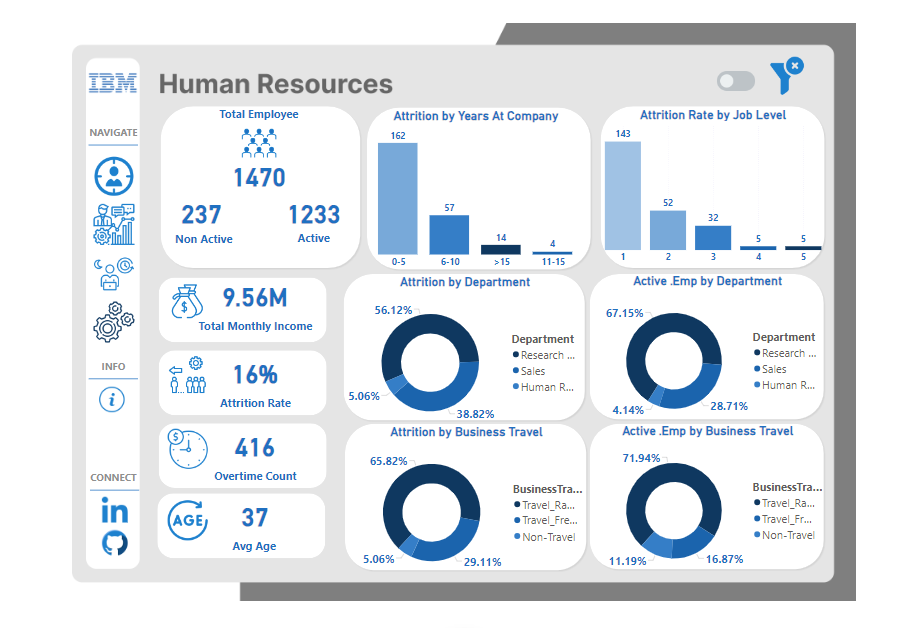

What the dashboard file says about the page in this screenshot:
{"tool":"powerbi","page":{"name":"Work Related Factors","canvas":[1900,1400],"ordinal":3},"visuals":[{"type":"shape","box":[1275,197.5,552.5,402.5],"z":0,"group":"g8"},{"type":"group","id":"g1","title":"Group 1","box":[210,198,494,404],"z":0},{"type":"shape","box":[210,198.5,493.6,402.5],"z":0,"group":"g1"},{"type":"shape","box":[712.5,200,552.5,402.5],"z":0,"group":"g9"},{"type":"shape","box":[653.8,602.5,595,365],"z":0,"group":"g6"},{"type":"shape","box":[1250,602.5,577.5,362.7],"z":0,"group":"g10"},{"type":"shape","box":[210,615.6,407.5,157.5],"z":0,"group":"g2"},{"type":"shape","box":[210,792.5,407.5,157.5],"z":0,"group":"g3"},{"type":"shape","box":[655,967.5,595,365],"z":0,"group":"g11"},{"type":"shape","box":[1250,967.5,577.5,362.7],"z":0,"group":"g12"},{"type":"shape","box":[210,968.4,407.5,157.5],"z":0,"group":"g4"},{"type":"shape","box":[40,1121,120,25],"z":0,"group":"g7"},{"type":"shape","box":[208,1140.5,407.5,157.5],"z":0,"group":"g5"},{"type":"columnChart","title":"Attrition by Years At Company","fields":{"Category":["Employee (Fact).YearsAtCompanyGroup"],"Y":["Dax_Measure.# Attrition employees"]},"box":[688.1,205,585,397.5],"z":1000,"group":"g9"},{"type":"columnChart","title":"Attrition Rate by Job Level","fields":{"Category":["Employee (Fact).JobLevel"],"Y":["Dax_Measure.# Attrition employees"]},"box":[1285,205,535,390],"z":1000,"group":"g8"},{"type":"card","title":"Employee","fields":{"Values":["Dax_Measure.Total Employees"]},"box":[367.9,318,171.7,98],"z":1000,"group":"g1"},{"type":"donutChart","title":"Active .Emp by Department","fields":{"Y":["Dax_Measure.# Current employees"],"Category":["Department (Dim).Department"]},"box":[1262.1,607.5,555.7,390],"z":1000,"group":"g10"},{"type":"donutChart","title":"Attrition by Department","fields":{"Y":["Dax_Measure.# Attrition employees"],"Category":["Department (Dim).Department"]},"box":[666.3,610,572.5,392.5],"z":1000,"group":"g6"},{"type":"group","id":"g2","title":"Group 2","box":[210,612.5,407.5,160.6],"z":1000},{"type":"card","fields":{"Values":["Dax_Measure.Total Monthly Income"]},"box":[316.8,612.5,252.5,87.5],"z":1000,"group":"g2"},{"type":"card","fields":{"Values":["Dax_Measure.Attrition Rate"]},"box":[316.8,799.7,252.5,87.5],"z":1000,"group":"g3"},{"type":"donutChart","title":"Active .Emp by Business Travel","fields":{"Y":["Dax_Measure.# Current employees"],"Category":["BusinessTravel (Dim).BusinessTravel"]},"box":[1262.1,972.5,555.7,390],"z":1000,"group":"g12"},{"type":"donutChart","title":"Attrition by Business Travel","fields":{"Y":["Dax_Measure.# Attrition employees"],"Category":["BusinessTravel (Dim).BusinessTravel"]},"box":[667.5,975,572.5,392.5],"z":1000,"group":"g11"},{"type":"card","fields":{"Values":["Dax_Measure.NoEmployees Working Overtime"]},"box":[316.8,975.6,252.5,87.5],"z":1000,"group":"g4"},{"type":"textbox","box":[35,1081,127.5,60],"z":1000,"group":"g7"},{"type":"card","fields":{"Values":["Dax_Measure.JobSatisfaction"]},"box":[317.1,1147.5,252,87.5],"z":1000,"group":"g5"},{"type":"card","fields":{"Values":["Dax_Measure.# Current employees"]},"box":[498.6,408.5,171.7,98],"z":2000,"group":"g1"},{"type":"image","box":[234.2,622.5,92.5,102.5],"z":2000,"group":"g2"},{"type":"group","id":"g3","title":"Group 3","box":[210,792.5,407.5,157.5],"z":2000},{"type":"textbox","box":[281.8,894.7,322.5,47.5],"z":2000,"group":"g3"},{"type":"textbox","box":[281.8,1070.6,322.5,47.5],"z":2000,"group":"g4"},{"type":"image","box":[40.6,1144.4,120,72.5],"z":2000,"group":"g7"},{"type":"textbox","box":[281.8,1242.7,322.5,47.5],"z":2000,"group":"g5"},{"type":"card","fields":{"Values":["Dax_Measure.# Attrition employees"]},"box":[247.2,408.5,132.8,98],"z":3000,"group":"g1"},{"type":"textbox","box":[281.8,707.5,322.5,47.5],"z":3000,"group":"g2"},{"type":"image","box":[227.9,800,105,105],"z":3000,"group":"g3"},{"type":"group","id":"g4","title":"Group 4","box":[210,968.4,407.5,157.5],"z":3000},{"type":"image","box":[225,972.5,107.5,117.5],"z":3000,"group":"g4"},{"type":"image","box":[227.5,1147.5,107.5,117.5],"z":3000,"group":"g5"},{"type":"image","box":[40.6,1224.4,120,72.5],"z":3000,"group":"g7"},{"type":"textbox","box":[321,198,265.6,70],"z":4000,"group":"g1"},{"type":"group","id":"g5","title":"Group 5","box":[208,1140.5,407.5,157.5],"z":4000},{"type":"image","box":[406.8,242,93.8,102],"z":5000,"group":"g1"},{"type":"group","id":"g6","title":"Group 8","box":[653.8,602.5,595,400],"z":5000},{"type":"image","box":[36.7,315.3,130,110],"z":6000},{"type":"textbox","box":[241.9,500.5,159.4,70],"z":6000,"group":"g1"},{"type":"textbox","box":[521.6,497.5,131,70],"z":7000,"group":"g1"},{"type":"image","box":[36.7,551.8,130,110],"z":7000},{"type":"image","box":[36.7,433.5,130,110],"z":8000},{"type":"textbox","box":[35,244,127.5,60],"z":9000},{"type":"shape","box":[40,284,120,25],"z":10000},{"type":"shape","box":[40,851,120,25],"z":11000},{"type":"textbox","box":[35,811,127.5,60],"z":12000},{"type":"image","box":[37.5,877.5,120,72],"z":13000},{"type":"group","id":"g7","title":"Group 11","box":[35,1081,127.5,215.9],"z":14000},{"type":"image","box":[36.7,670,130,110],"z":15000},{"type":"image","box":[1662.5,77.5,140,102.5],"z":16000},{"type":"group","id":"g8","title":"Group 6","box":[1275,197.5,552.5,402.5],"z":20000},{"type":"group","id":"g9","title":"Group 7","box":[688.1,200,585,402.5],"z":21000},{"type":"group","id":"g10","title":"Group 8","box":[1250,602.5,577.5,395],"z":22000},{"type":"group","id":"g11","title":"Group 8","box":[655,967.5,595,400],"z":23000},{"type":"group","id":"g12","title":"Group 8","box":[1250,967.5,577.5,395],"z":24000},{"type":"image","box":[1552.5,65,112.5,147.5],"z":25000}]}

Visuals, with their boxes on the page's 1900x1400 design canvas (x1, y1, x2, y2). These are canvas units, not pixel positions in the 903x628 screenshot, which may show the page scaled, cropped or inside an application window:
shape: x1=1275 y1=198 x2=1828 y2=600
"Group 1" group: x1=210 y1=198 x2=704 y2=602
shape: x1=210 y1=198 x2=704 y2=601
shape: x1=712 y1=200 x2=1265 y2=602
shape: x1=654 y1=602 x2=1249 y2=968
shape: x1=1250 y1=602 x2=1828 y2=965
shape: x1=210 y1=616 x2=618 y2=773
shape: x1=210 y1=792 x2=618 y2=950
shape: x1=655 y1=968 x2=1250 y2=1332
shape: x1=1250 y1=968 x2=1828 y2=1330
shape: x1=210 y1=968 x2=618 y2=1126
shape: x1=40 y1=1121 x2=160 y2=1146
shape: x1=208 y1=1140 x2=616 y2=1298
"Attrition by Years At Company" columnChart: x1=688 y1=205 x2=1273 y2=602
"Attrition Rate by Job Level" columnChart: x1=1285 y1=205 x2=1820 y2=595
"Employee" card: x1=368 y1=318 x2=540 y2=416
"Active .Emp by Department" donutChart: x1=1262 y1=608 x2=1818 y2=998
"Attrition by Department" donutChart: x1=666 y1=610 x2=1239 y2=1002
"Group 2" group: x1=210 y1=612 x2=618 y2=773
card - Dax_Measure.Total Monthly Income: x1=317 y1=612 x2=569 y2=700
card - Dax_Measure.Attrition Rate: x1=317 y1=800 x2=569 y2=887
"Active .Emp by Business Travel" donutChart: x1=1262 y1=972 x2=1818 y2=1362
"Attrition by Business Travel" donutChart: x1=668 y1=975 x2=1240 y2=1368
card - Dax_Measure.NoEmployees Working Overtime: x1=317 y1=976 x2=569 y2=1063
textbox: x1=35 y1=1081 x2=162 y2=1141
card - Dax_Measure.JobSatisfaction: x1=317 y1=1148 x2=569 y2=1235
card - Dax_Measure.# Current employees: x1=499 y1=408 x2=670 y2=506
image: x1=234 y1=622 x2=327 y2=725
"Group 3" group: x1=210 y1=792 x2=618 y2=950
textbox: x1=282 y1=895 x2=604 y2=942
textbox: x1=282 y1=1071 x2=604 y2=1118
image: x1=41 y1=1144 x2=161 y2=1217
textbox: x1=282 y1=1243 x2=604 y2=1290
card - Dax_Measure.# Attrition employees: x1=247 y1=408 x2=380 y2=506
textbox: x1=282 y1=708 x2=604 y2=755
image: x1=228 y1=800 x2=333 y2=905
"Group 4" group: x1=210 y1=968 x2=618 y2=1126
image: x1=225 y1=972 x2=332 y2=1090
image: x1=228 y1=1148 x2=335 y2=1265
image: x1=41 y1=1224 x2=161 y2=1297
textbox: x1=321 y1=198 x2=587 y2=268
"Group 5" group: x1=208 y1=1140 x2=616 y2=1298
image: x1=407 y1=242 x2=501 y2=344
"Group 8" group: x1=654 y1=602 x2=1249 y2=1002
image: x1=37 y1=315 x2=167 y2=425
textbox: x1=242 y1=500 x2=401 y2=570
textbox: x1=522 y1=498 x2=653 y2=568
image: x1=37 y1=552 x2=167 y2=662
image: x1=37 y1=434 x2=167 y2=544
textbox: x1=35 y1=244 x2=162 y2=304
shape: x1=40 y1=284 x2=160 y2=309
shape: x1=40 y1=851 x2=160 y2=876
textbox: x1=35 y1=811 x2=162 y2=871
image: x1=38 y1=878 x2=158 y2=950
"Group 11" group: x1=35 y1=1081 x2=162 y2=1297
image: x1=37 y1=670 x2=167 y2=780
image: x1=1662 y1=78 x2=1802 y2=180
"Group 6" group: x1=1275 y1=198 x2=1828 y2=600
"Group 7" group: x1=688 y1=200 x2=1273 y2=602
"Group 8" group: x1=1250 y1=602 x2=1828 y2=998
"Group 8" group: x1=655 y1=968 x2=1250 y2=1368
"Group 8" group: x1=1250 y1=968 x2=1828 y2=1362
image: x1=1552 y1=65 x2=1665 y2=212
